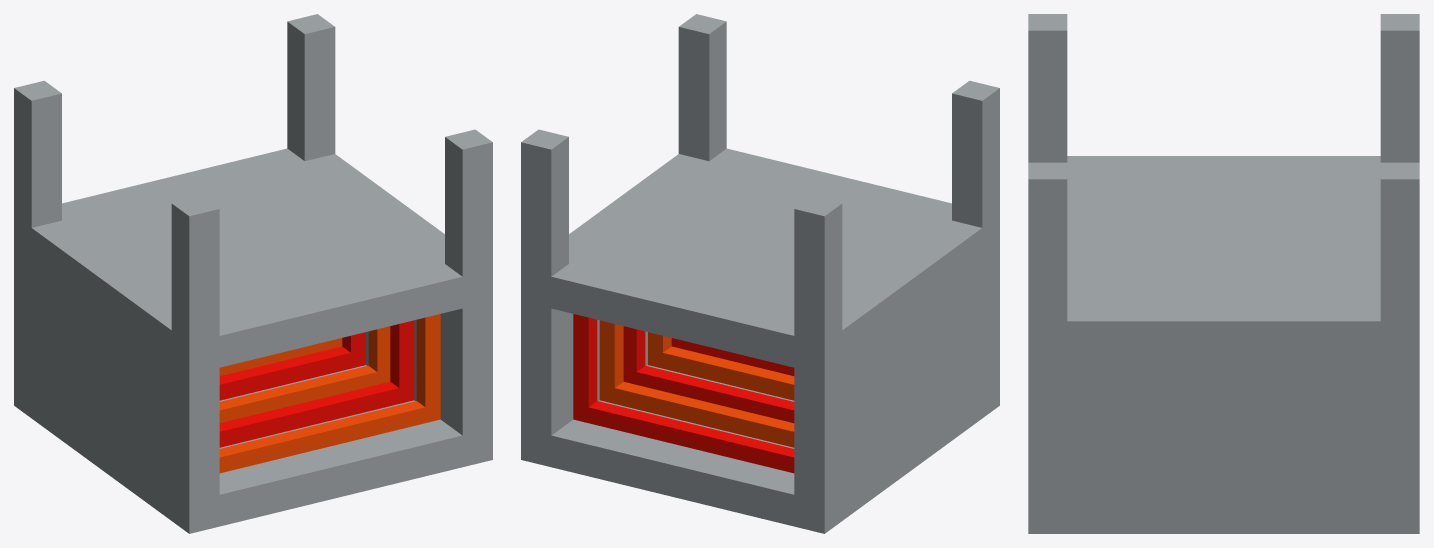
The model's file is tinker.obj.
3 views of the same model, side by side, from view 1: azimuth 30°, elevation 25°; view 2: azimuth 150°, elevation 25°; view 3: azimuth 270°, elevation 25° (orthographic). The views are drawn at different scales.
Parts seen in each view (by area): view 1: group_0_10988977, group_0_16731648, group_0_16714240; view 2: group_0_10988977, group_0_16714240, group_0_16731648; view 3: group_0_10988977.
Part boxes in pixels (bbox=[...]): group_0_10988977: bbox=[14, 14, 492, 533]; group_0_16731648: bbox=[219, 314, 440, 473]; group_0_16714240: bbox=[219, 320, 414, 447]; group_0_10988977: bbox=[521, 14, 999, 533]; group_0_16714240: bbox=[573, 314, 794, 473]; group_0_16731648: bbox=[599, 320, 794, 447]; group_0_10988977: bbox=[1028, 14, 1419, 533].
Bounding box in the file's own units: 40 × 42 × 40.
